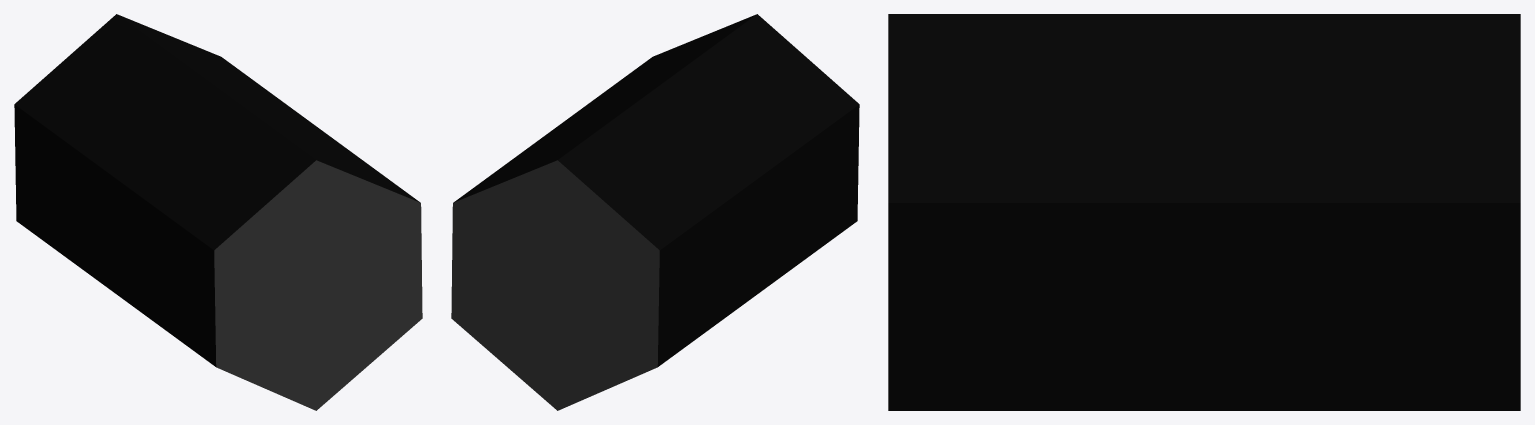
The model's file is 319a2e8f-3b56-4778-b53c-ccccc2d1aa7c.glb.
3 renders of one model, left to right at view 1: azimuth 30°, elevation 25°; view 2: azimuth 150°, elevation 25°; view 3: azimuth 270°, elevation 25°, orthographic. The views are drawn at different scales.
Parts seen in each view (by area): view 1: ._Zyzol_Black; view 2: ._Zyzol_Black; view 3: ._Zyzol_Black.
Boxes of the visible parts, left/top/right/bottom form: ._Zyzol_Black: left=14, top=14, right=422, bottom=410; ._Zyzol_Black: left=451, top=14, right=859, bottom=410; ._Zyzol_Black: left=888, top=14, right=1520, bottom=410.
Size of what is drawn, in the model's own units: 0.0271 by 0.0312 by 0.045.
2 materials, 2 textured.
